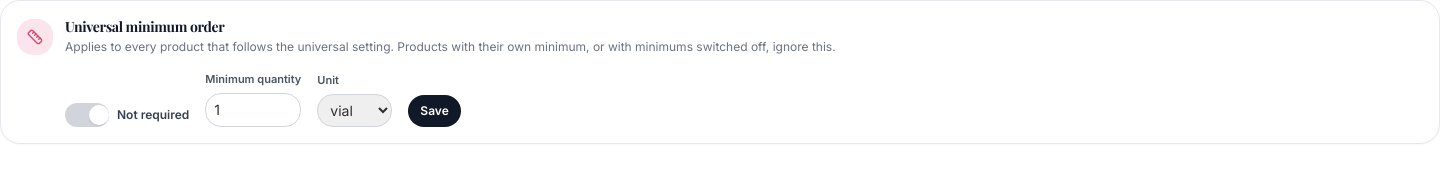
Test: UniversalMinimumOrderPanel › refuses to save a quantity below one
Replace the text in the number field labelled "Minimum quantity" with "0" at (253, 110), box x1=205 y1=93 x2=301 y2=127
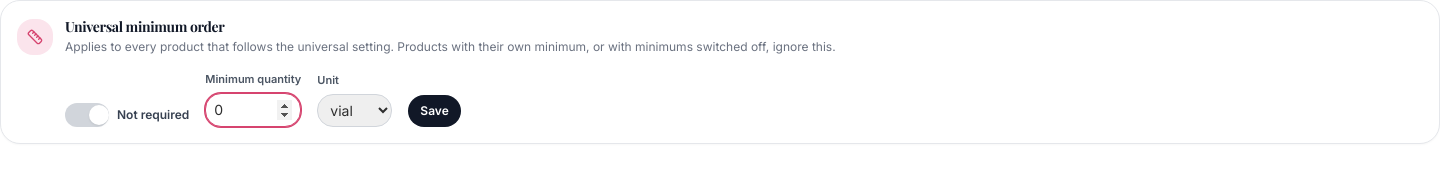
Click the button "Save" at (434, 111), box x1=408 y1=95 x2=461 y2=127
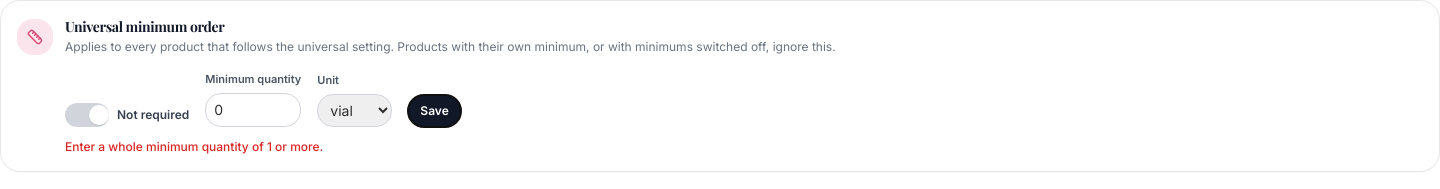
Check: the message "Enter a whole minimum quantity of 1 or more." is shown, box x1=65 y1=139 x2=323 y2=154
